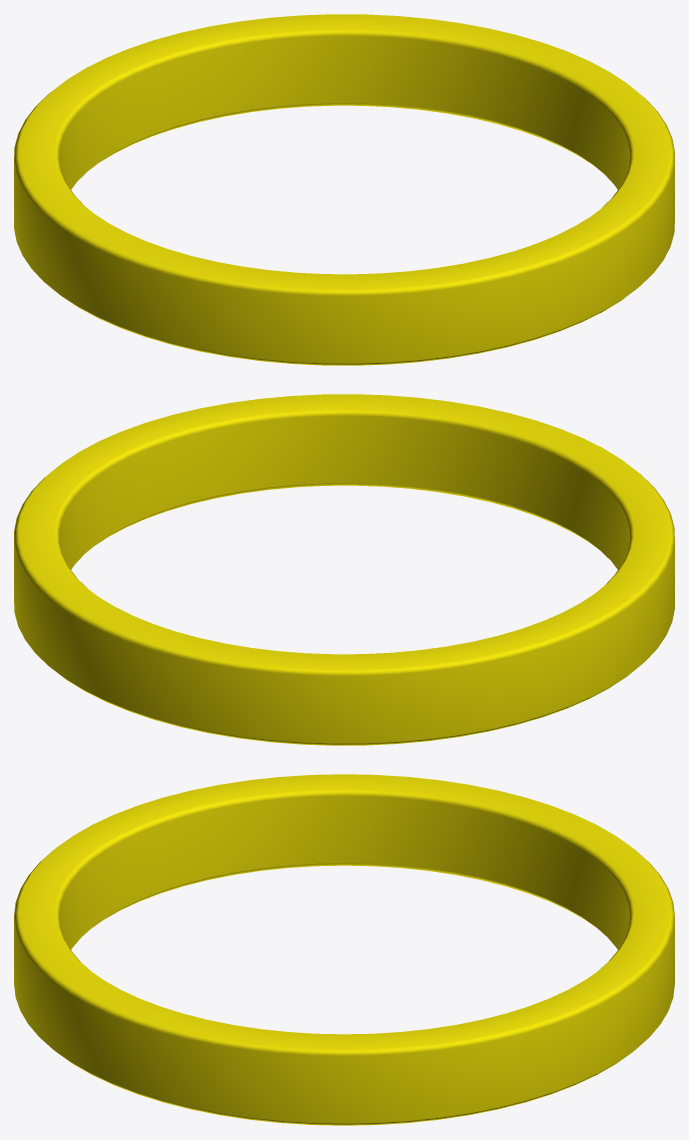
3 renders of one model, top to bottom at view 1: azimuth 30°, elevation 25°; view 2: azimuth 150°, elevation 25°; view 3: azimuth 270°, elevation 25°, orthographic.
Visible parts, largest first — view 1: seal_body; view 2: seal_body; view 3: seal_body.
Boxes of the visible parts, box(x1,y1,x2,y2) form: seal_body: box(14, 14, 674, 365); seal_body: box(14, 394, 674, 745); seal_body: box(14, 774, 674, 1125).
Size of the model in its own units: 0.058 by 0.0074 by 0.058.
